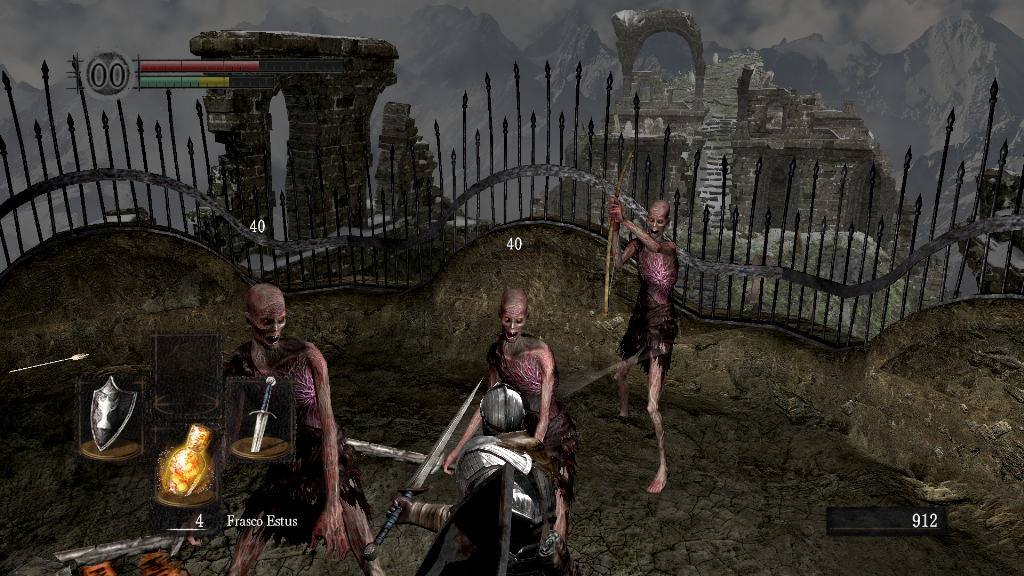health: (138, 58, 343, 71)
hollow: (199, 285, 381, 576), (600, 155, 683, 494), (447, 293, 574, 473)
humanity: (80, 45, 136, 102)
player: (371, 376, 570, 576)
souls: (825, 506, 945, 536)
stamina: (138, 74, 274, 88)
